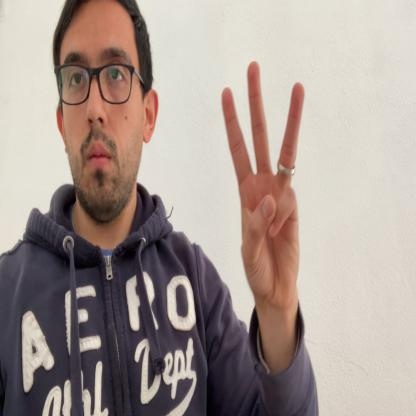W: (221, 61, 305, 311)
